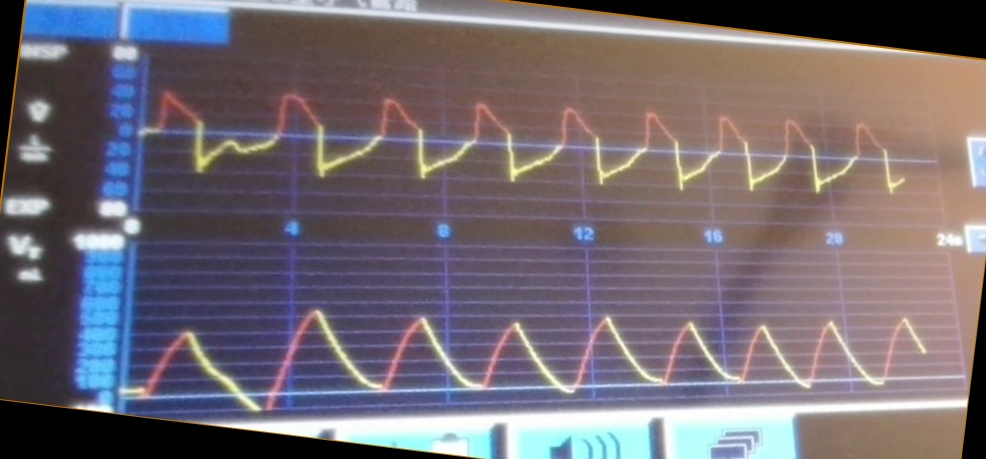Premature_cycling Flow: (145, 87, 904, 210)
Premature_cycling Volume: (132, 302, 928, 397)
